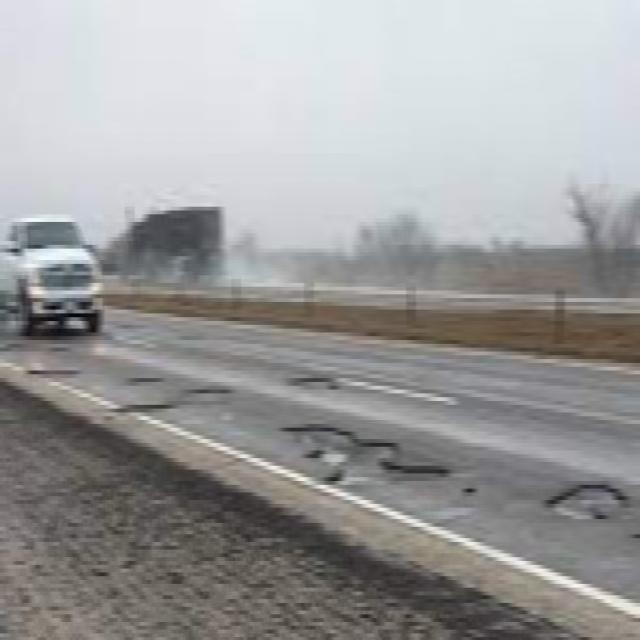Pothole: (283, 414, 438, 506), (546, 473, 640, 549), (179, 380, 242, 396), (296, 376, 344, 395), (121, 374, 178, 387), (21, 366, 87, 376), (104, 404, 180, 410)
